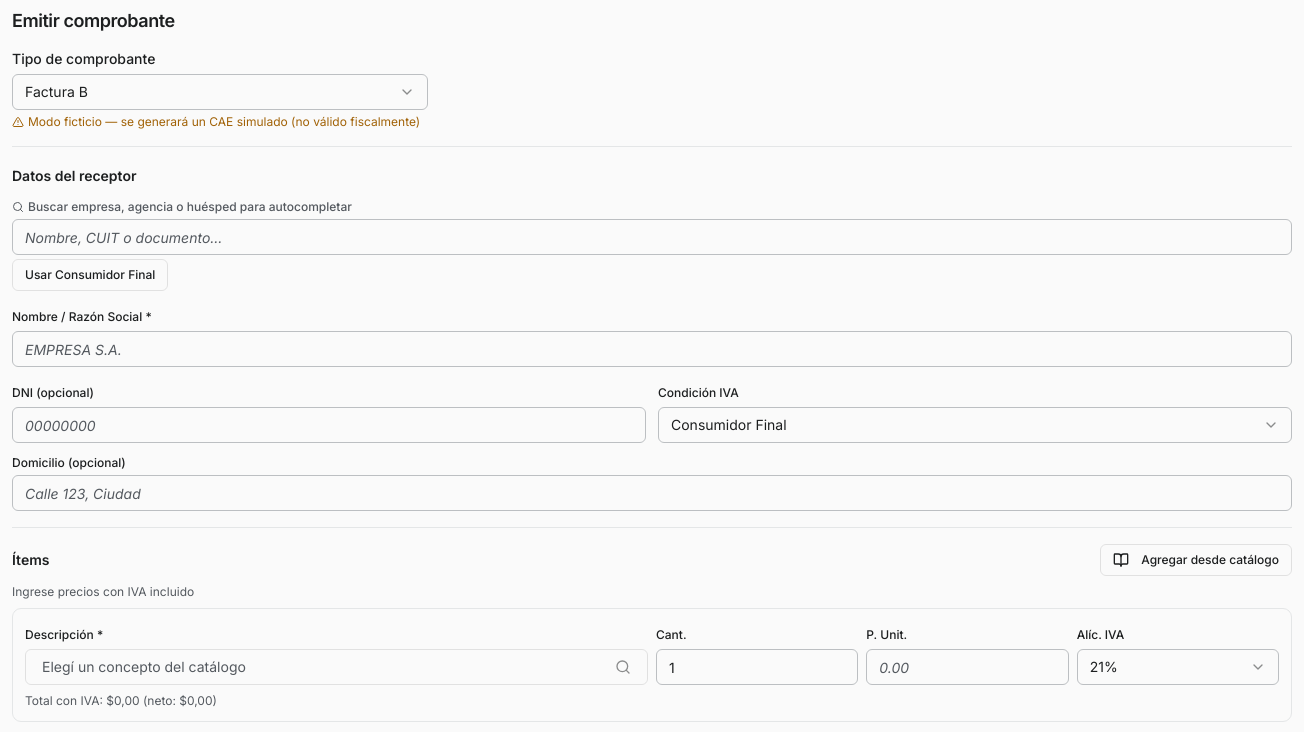
Test case: Centro de Comprobantes — receptor vinculado › permite elegir explícitamente Consumidor Final para Factura B
The image size is (1304, 732).
Click the button with test id "button-consumidor-final".
click(90, 275)  # box [12,259,168,291]
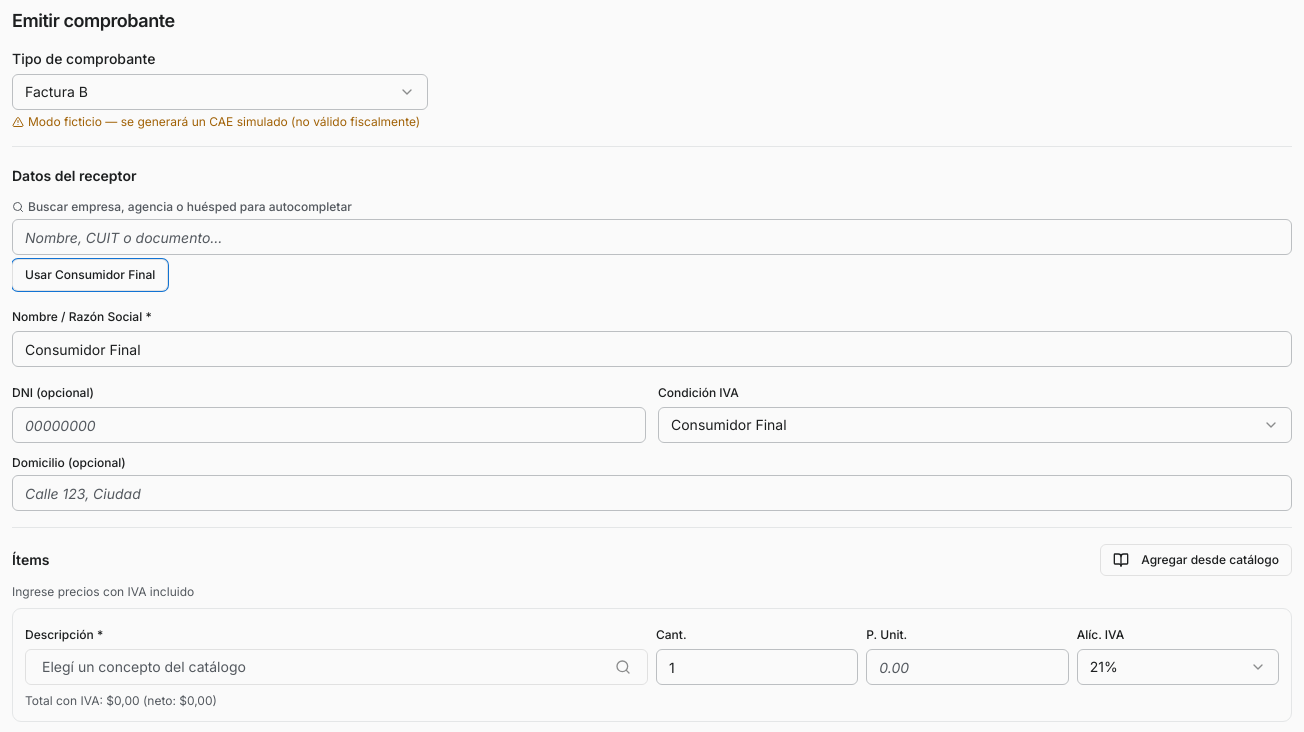
Expected: the field with test id "input-razon-social" holds "Consumidor Final", [12,331,1292,367]
